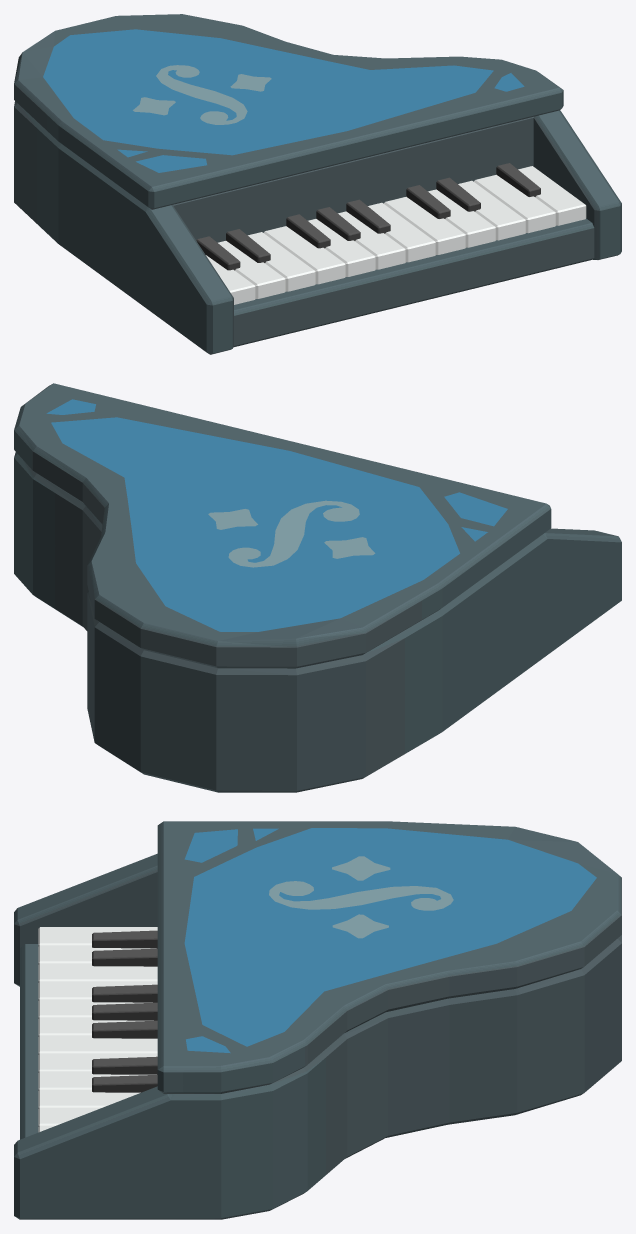
The model's file is CharSkyKid_Prop_AP23PlaceablePianoBasic.glb.
3 renders of one model, top to bottom at view 1: azimuth 30°, elevation 25°; view 2: azimuth 150°, elevation 25°; view 3: azimuth 270°, elevation 25°, orthographic. The views are drawn at different scales.
Visible parts, largest first — view 1: CharSkyKid_Prop_AP23PlaceablePianoBasic; view 2: CharSkyKid_Prop_AP23PlaceablePianoBasic; view 3: CharSkyKid_Prop_AP23PlaceablePianoBasic.
Part boxes in pixels (<box>): CharSkyKid_Prop_AP23PlaceablePianoBasic: <box>14,14,621,354</box>; CharSkyKid_Prop_AP23PlaceablePianoBasic: <box>14,383,621,792</box>; CharSkyKid_Prop_AP23PlaceablePianoBasic: <box>14,821,621,1219</box>.
Bounding box in the file's own units: 4.09 × 1.2 × 4.21.
Materials: 1 (1 with a texture image).
